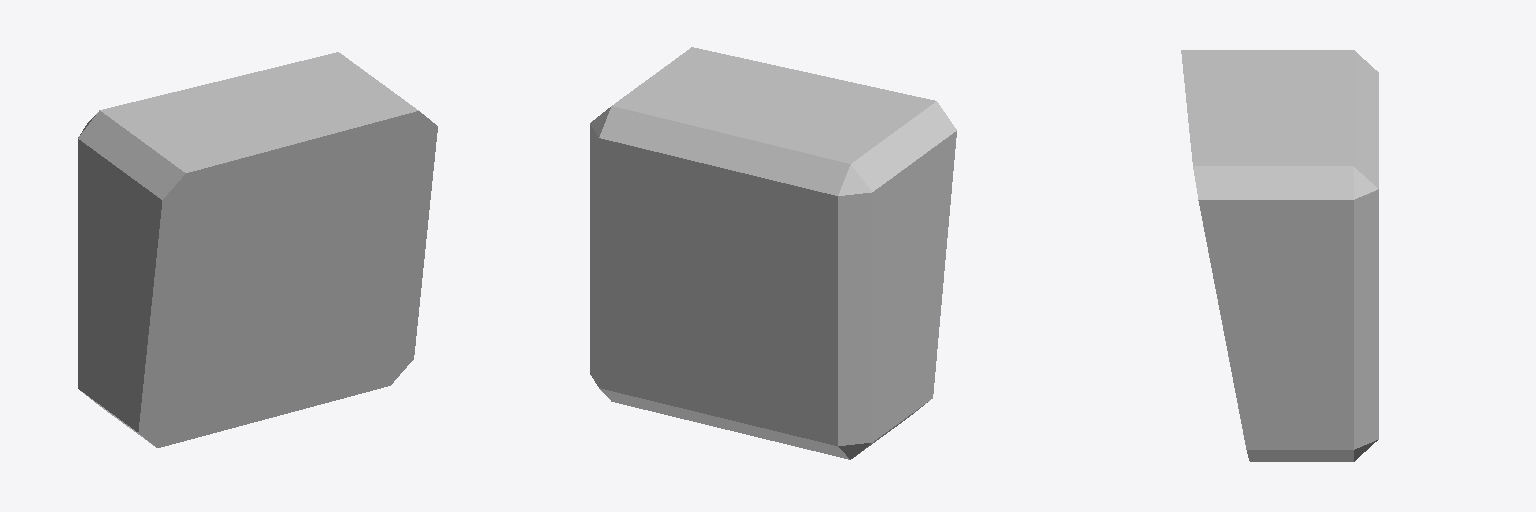
Rendered from Ice-C.obj.
3 views of the same model, side by side, from view 1: azimuth 30°, elevation 25°; view 2: azimuth 150°, elevation 25°; view 3: azimuth 270°, elevation 25° (orthographic).
Parts seen in each view (by area): view 1: Cube.013; view 2: Cube.013; view 3: Cube.013.
Part boxes in pixels (x1,y1,x2,y2): Cube.013: (78, 52, 437, 447); Cube.013: (590, 47, 956, 459); Cube.013: (1181, 50, 1378, 461).
Bounding box in the file's own units: 0.2631 × 0.2631 × 0.1594.